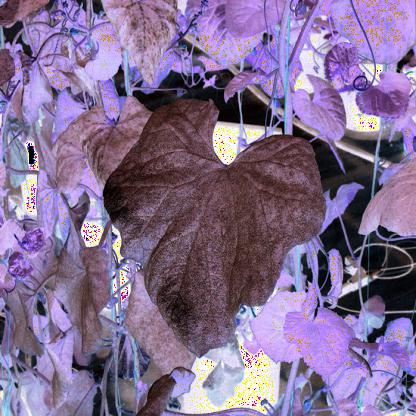Squash Powdery mildew leaf: (103, 101, 327, 365), (38, 190, 117, 364), (79, 96, 163, 188), (100, 1, 177, 87)
